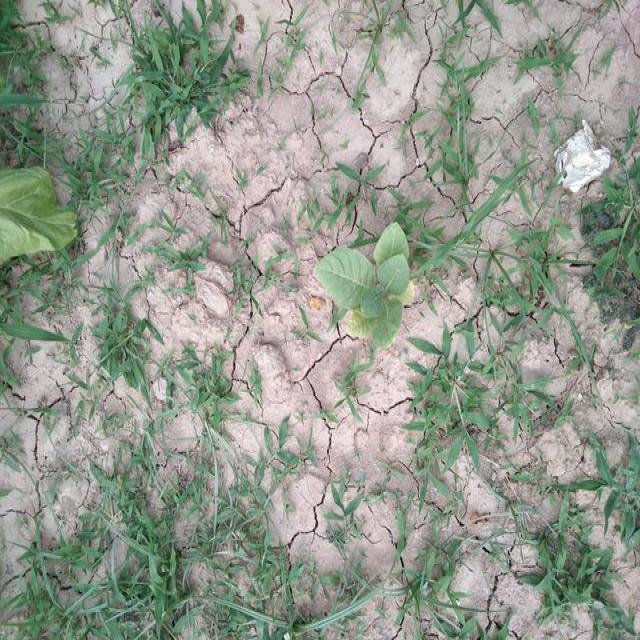crop: (309, 213, 422, 351)
